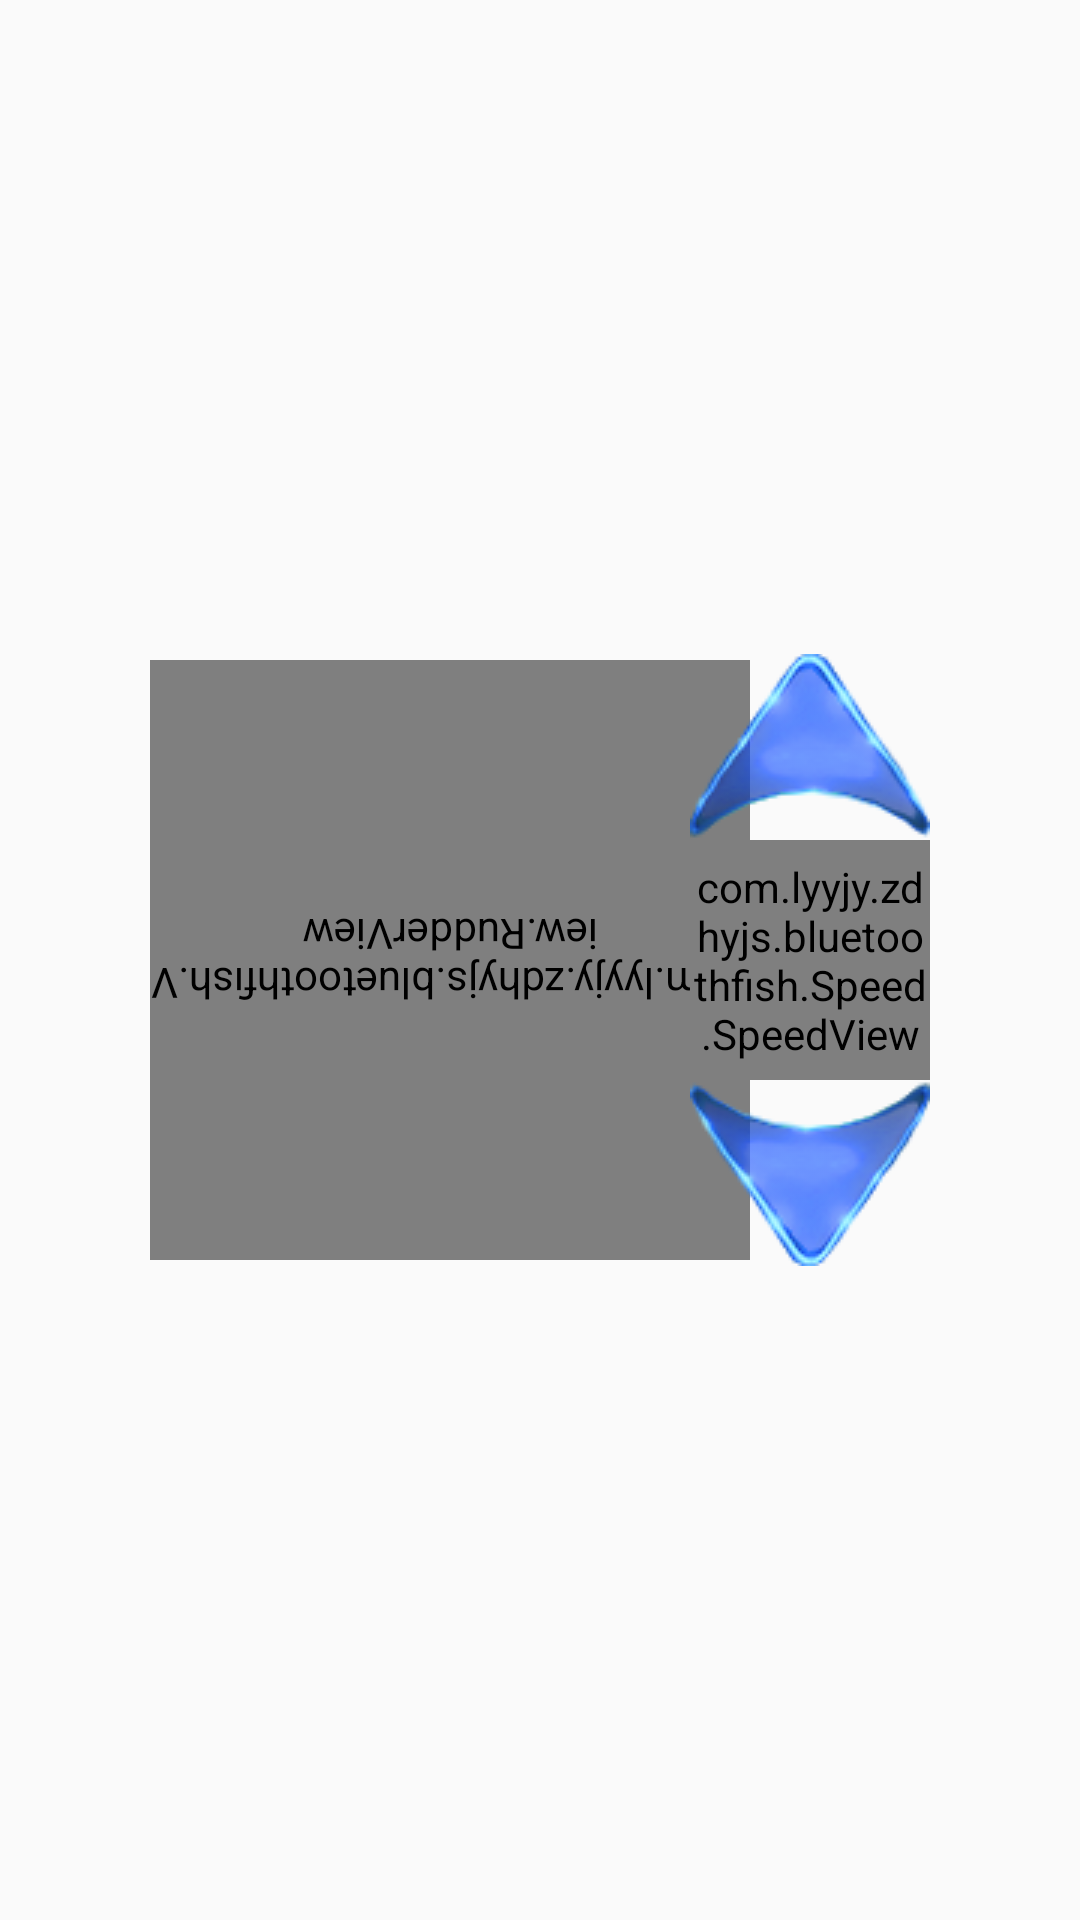

Where to tap for icons on this 1080 x 1920 app screen, as (x,y):
fish accelerate: (810,747)
fish decelerate: (810,1173)
